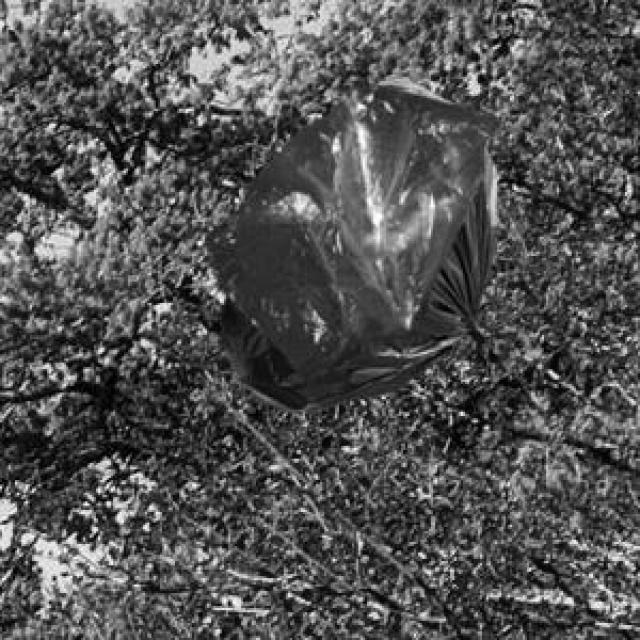miscellaneous trash: (218, 75, 506, 408)
